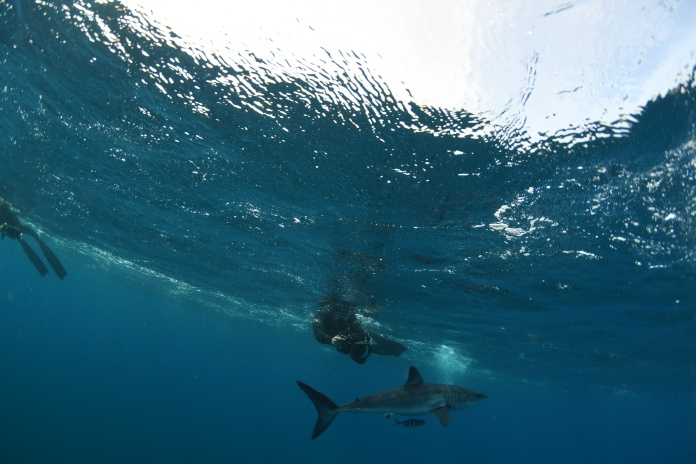Mako: (293, 362, 493, 453)
